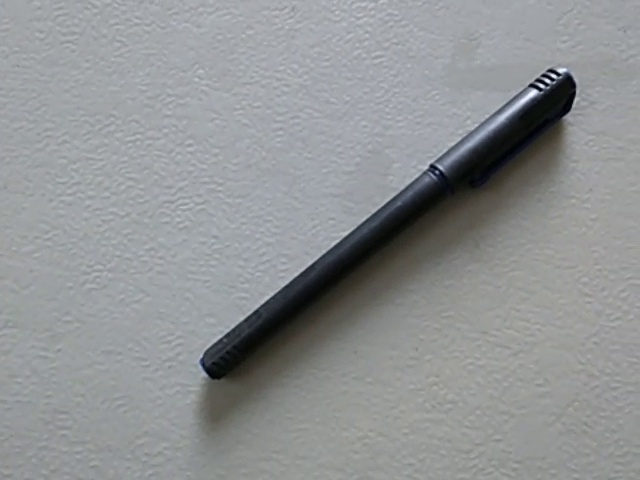Pen: (159, 51, 597, 407)
